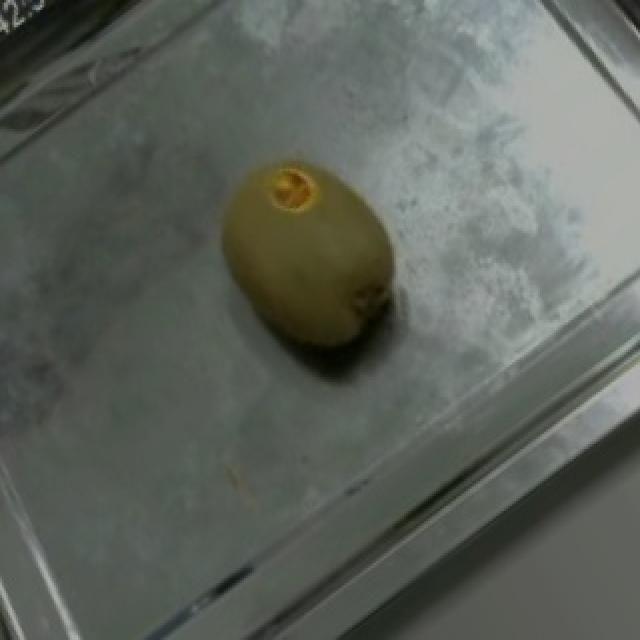Fruit: (176, 122, 434, 394)
